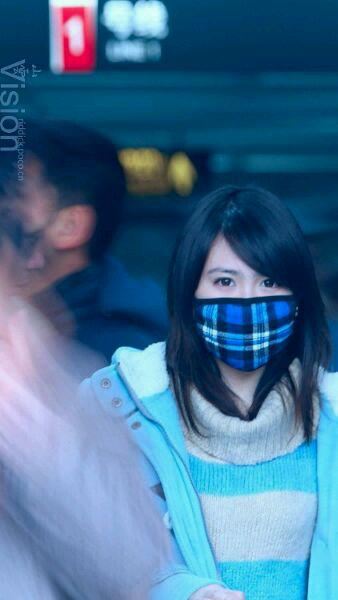OK: (200, 258, 313, 371)
